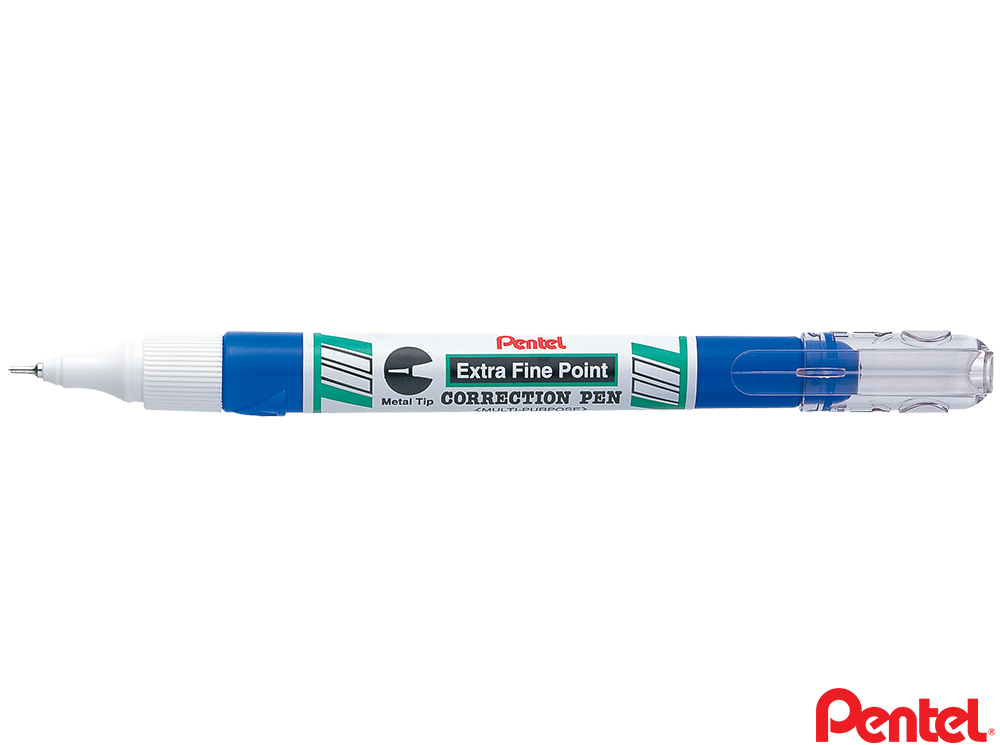Correction_fluid: (4, 316, 1000, 432)
